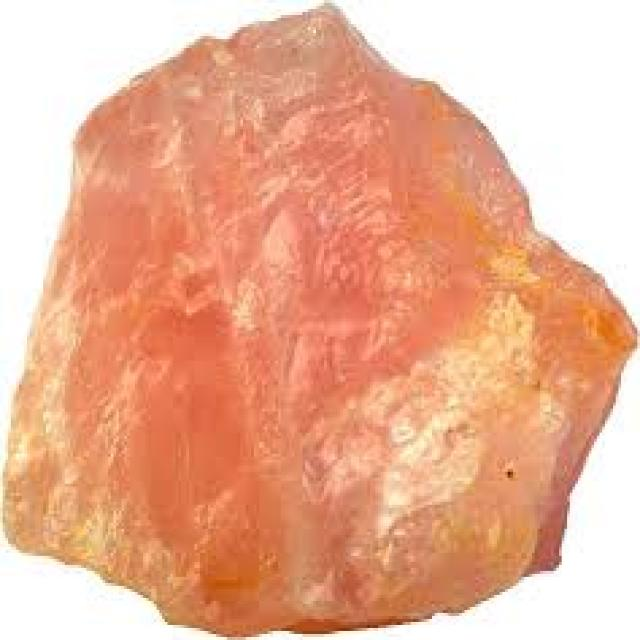Metamorphic: (3, 3, 632, 628)
